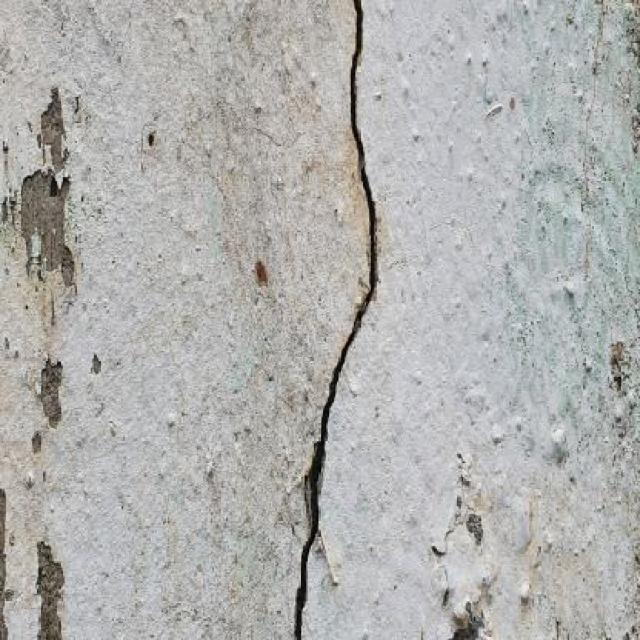vertical crack: (293, 0, 377, 639)
